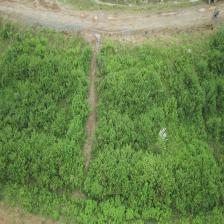vegetation: (0, 34, 91, 196), (92, 49, 165, 156), (85, 142, 175, 222), (175, 145, 218, 214)
